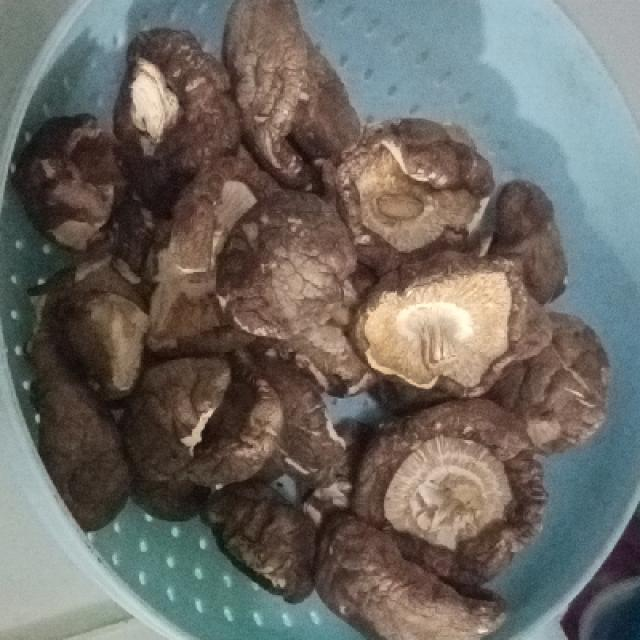Lentinus edodes: (360, 398, 544, 582), (217, 192, 381, 396), (351, 255, 552, 398), (341, 120, 497, 258), (221, 0, 328, 185), (121, 28, 227, 182), (21, 111, 137, 249), (123, 358, 234, 486), (60, 255, 154, 398), (211, 491, 319, 600)
